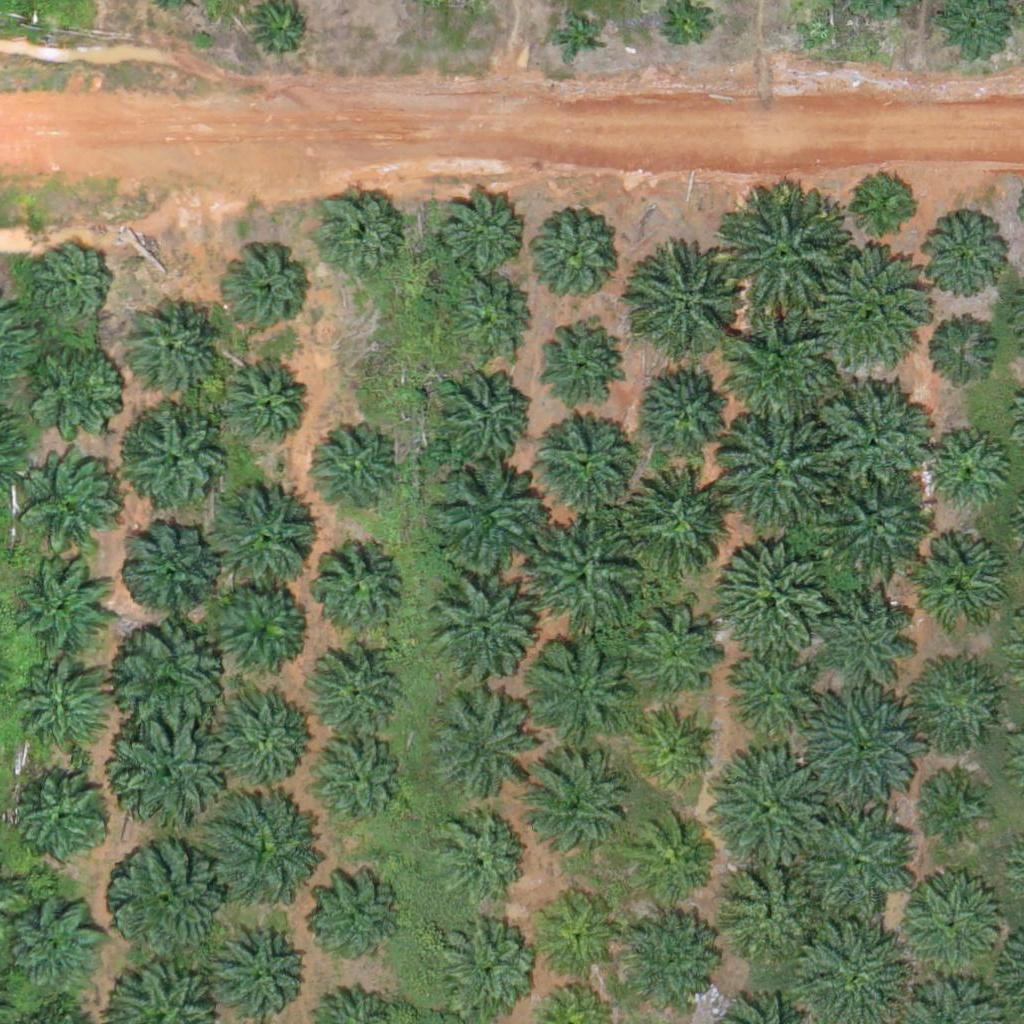Kelapa_Sawit: (722, 198, 847, 324), (822, 253, 935, 367), (618, 466, 731, 580), (898, 873, 1011, 986), (804, 688, 917, 801), (725, 316, 838, 429), (716, 417, 829, 530), (713, 537, 826, 650), (611, 597, 724, 710), (210, 791, 323, 904), (108, 718, 221, 831), (721, 755, 833, 869), (523, 631, 635, 745), (520, 747, 632, 861), (429, 463, 541, 577), (803, 806, 915, 919), (822, 468, 934, 581), (817, 381, 929, 494), (528, 522, 640, 635), (204, 479, 316, 592), (121, 407, 233, 520), (114, 626, 226, 739), (820, 575, 920, 676), (640, 359, 740, 460), (524, 203, 624, 304), (424, 695, 524, 796), (300, 423, 400, 524), (305, 644, 405, 745), (306, 733, 406, 834), (215, 685, 315, 786), (207, 577, 307, 678), (123, 299, 223, 400), (110, 842, 210, 943), (4, 901, 104, 1002), (15, 766, 115, 867), (15, 662, 115, 763), (10, 556, 110, 657), (25, 453, 125, 554), (909, 537, 1009, 637), (724, 858, 824, 958), (635, 257, 735, 357), (537, 413, 637, 513), (433, 915, 533, 1015), (428, 582, 528, 682), (433, 366, 533, 466), (309, 538, 409, 638), (119, 519, 219, 619), (29, 331, 129, 431), (919, 215, 1007, 304), (623, 918, 711, 1007), (630, 705, 718, 793), (920, 427, 1008, 515), (719, 651, 807, 739), (622, 817, 710, 905), (531, 319, 619, 407), (433, 813, 521, 901), (313, 188, 401, 276), (217, 927, 305, 1015), (216, 359, 304, 447), (914, 658, 1001, 746), (535, 893, 622, 981), (451, 274, 538, 362), (439, 191, 526, 279), (310, 872, 397, 960), (226, 248, 313, 336), (30, 244, 117, 332), (921, 320, 996, 396), (855, 172, 918, 235), (923, 777, 986, 840), (659, 2, 709, 53), (552, 11, 602, 62)
